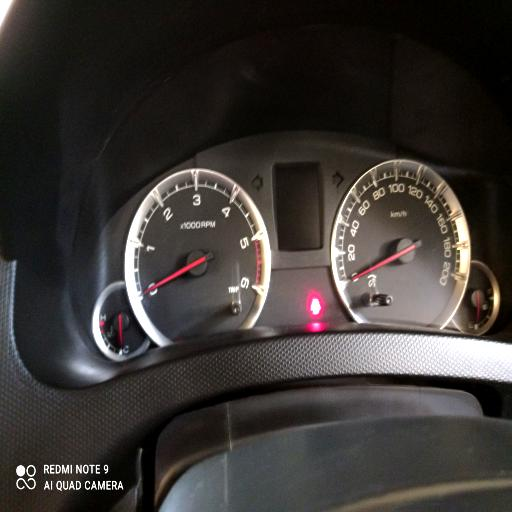tachometer: (123, 165, 271, 352)
